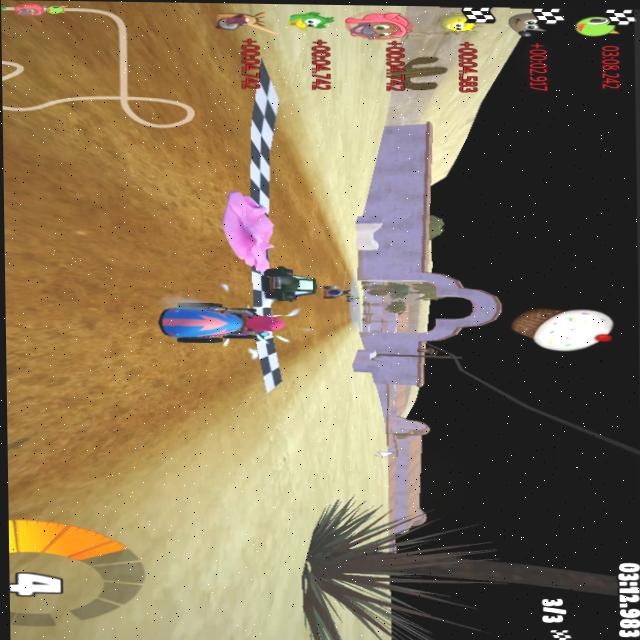enemy_kart: (325, 286, 344, 300)
obstacle: (198, 192, 273, 271)
player_kart: (146, 303, 289, 349)
